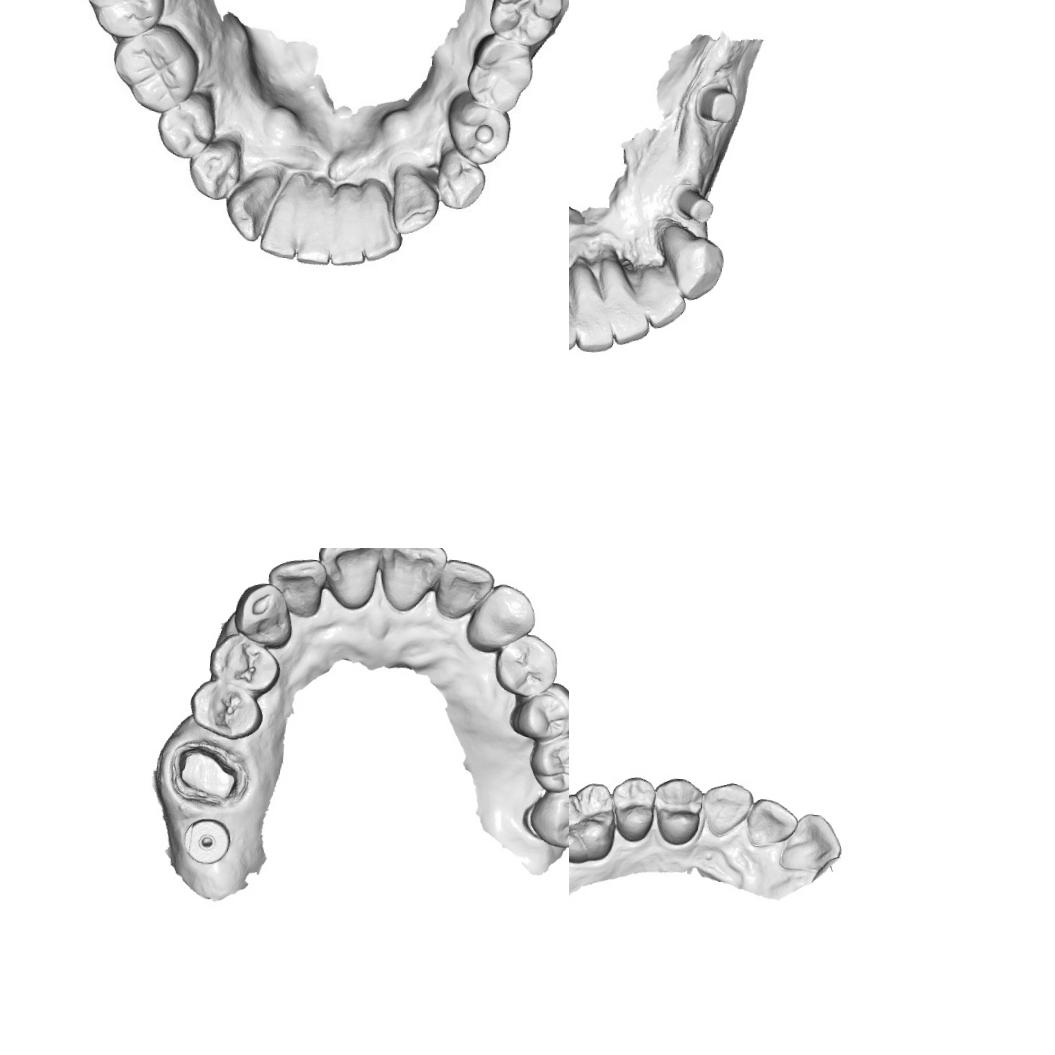abutment: (688, 75, 742, 130), (666, 180, 717, 226)
canine: (647, 215, 728, 304), (462, 580, 539, 656), (228, 577, 296, 649), (224, 167, 286, 244), (389, 163, 443, 237), (697, 776, 754, 840)
crown: (169, 739, 251, 810)
implant: (180, 814, 232, 864)
incisor: (371, 548, 446, 615), (259, 169, 312, 261), (776, 808, 846, 876), (313, 548, 386, 612), (431, 554, 496, 622), (264, 553, 328, 621), (325, 182, 375, 267), (355, 178, 406, 261), (569, 276, 620, 357), (630, 264, 690, 331), (607, 277, 654, 350), (298, 180, 337, 266), (743, 795, 801, 852), (569, 281, 585, 353)
molar: (110, 31, 198, 106), (468, 32, 530, 112), (569, 777, 619, 867), (517, 773, 569, 853), (524, 725, 569, 795), (79, 0, 162, 37), (487, 0, 559, 40)
premolar: (203, 630, 285, 694), (184, 677, 264, 742), (492, 632, 559, 702), (156, 90, 224, 156), (648, 774, 706, 848), (451, 95, 511, 164), (510, 678, 569, 745), (432, 140, 489, 209), (188, 134, 246, 200), (606, 772, 658, 844)
